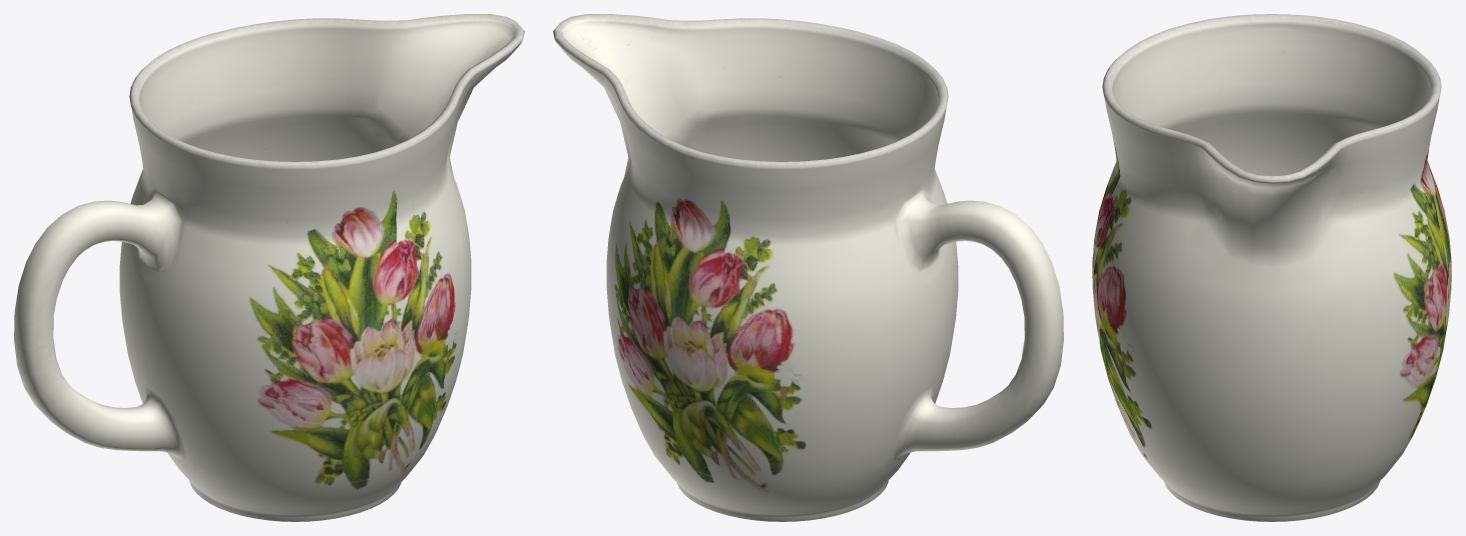
Rendered from jug_01.glb.
3 renders of one model, left to right at view 1: azimuth 30°, elevation 25°; view 2: azimuth 150°, elevation 25°; view 3: azimuth 270°, elevation 25°, orthographic. The views are drawn at different scales.
Parts seen in each view (by area): view 1: jug_01; view 2: jug_01; view 3: jug_01.
Boxes of the visible parts, <box> form: jug_01: <box>14,14,524,521</box>; jug_01: <box>553,14,1063,521</box>; jug_01: <box>1092,14,1451,521</box>.
Bounding box in the file's own units: 0.2753 × 0.2113 × 0.1675.
Materials: 1 (1 with a texture image).
